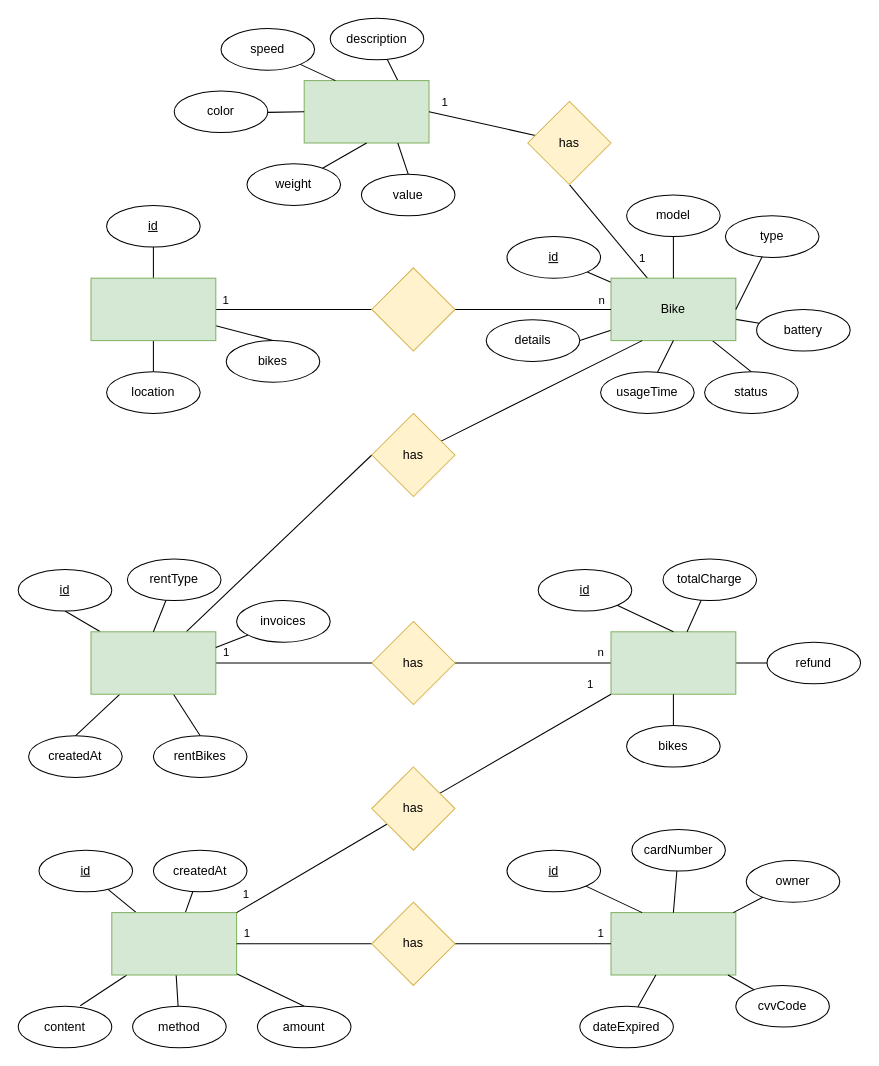
Image size: 879x1066. Some labels were removed from this diagram. Here are the shapes that lost their labels. From the top down, the centre of each, then its label:
At point 366,111: "BikeDetails".
At point 153,309: "Station".
At point 413,309: "Contains".
At point 153,662: "Order".
At point 673,662: "Invoice".
At point 174,943: "PaymentTransaction".
At point 673,943: "CreditCard".
